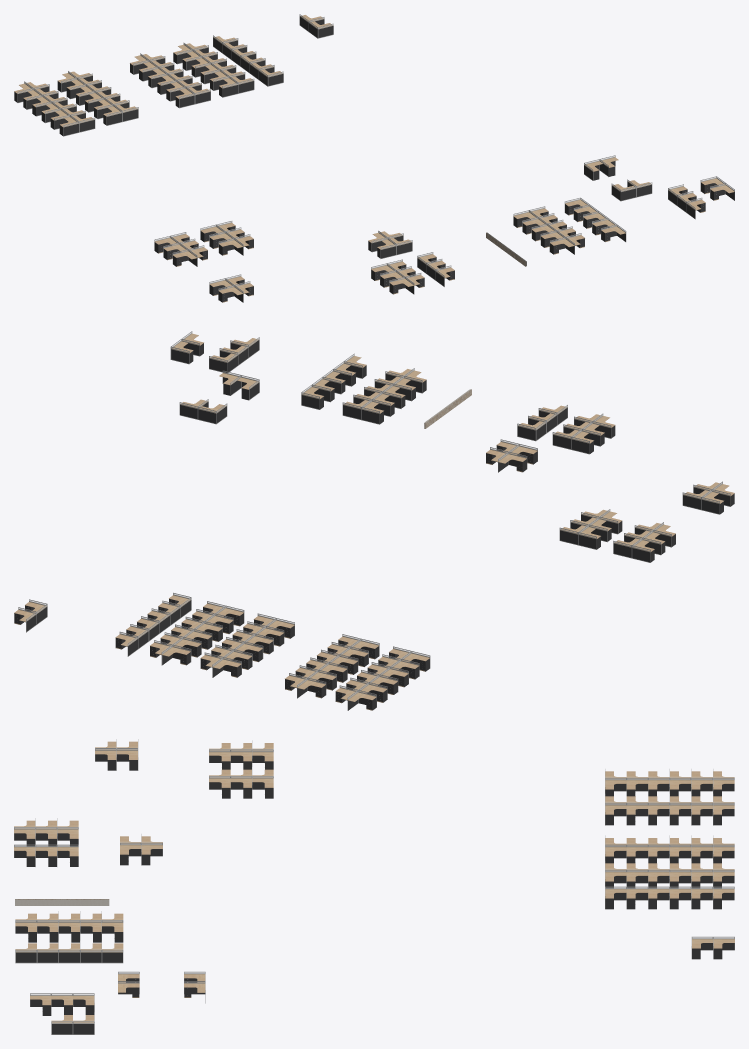
The model's file is desk 1.glb.
3 views of the same model, one above another, from view 1: azimuth 30°, elevation 25°; view 2: azimuth 150°, elevation 25°; view 3: azimuth 270°, elevation 25° (orthographic). The views are drawn at different scales.
Visible parts, largest first — view 1: no part large enough to name; view 2: no part large enough to name; view 3: 立方体.251.
Boxes of the visible parts, box(x1,y1,x2,y2) form: 立方体.251: box(15, 899, 109, 905).
Bounding box in the file's own units: 17.15 × 0.3817 × 18.5.
Materials: 7 (5 with a texture image).
